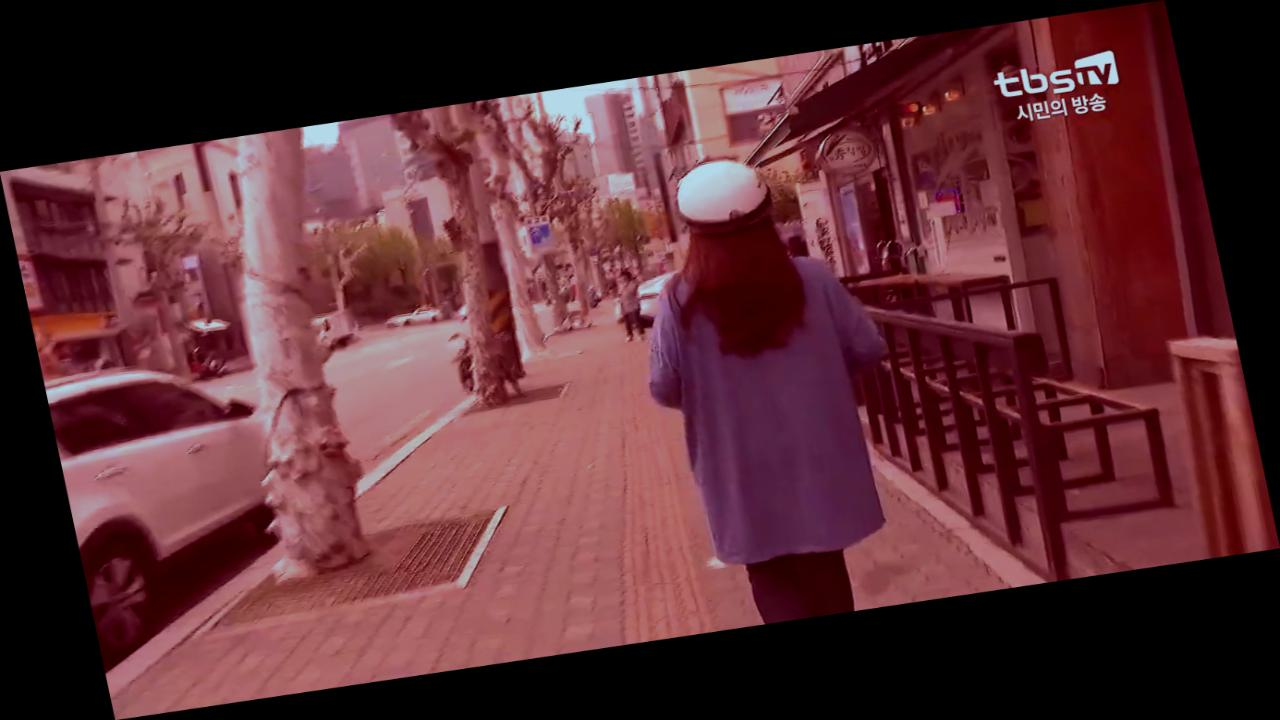helmet: (601, 137, 947, 634)
